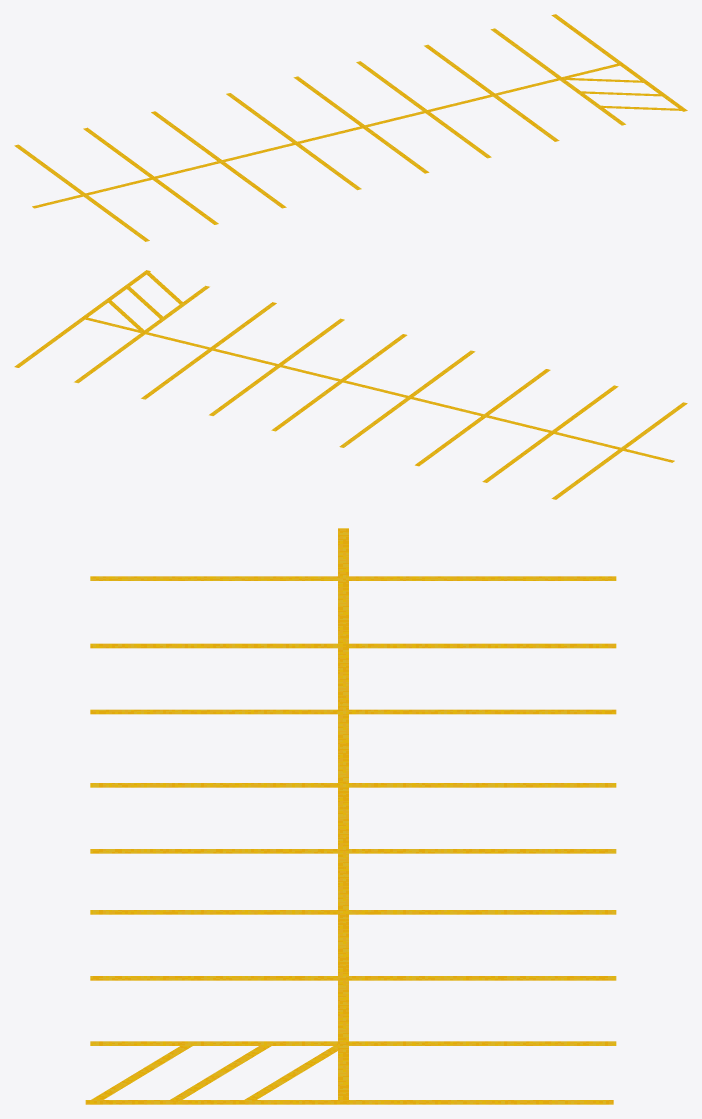
The model's file is YELLOW PARKINGLOT.fbx.
3 renders of one model, top to bottom at view 1: azimuth 30°, elevation 25°; view 2: azimuth 150°, elevation 25°; view 3: azimuth 270°, elevation 25°, orthographic. The views are drawn at different scales.
Parts seen in each view (by area): view 1: YELLOW_PARKINGLOT; view 2: YELLOW_PARKINGLOT; view 3: YELLOW_PARKINGLOT.
Boxes of the visible parts, x1,y1,x2,y2 form: YELLOW_PARKINGLOT: (14,14,687,241); YELLOW_PARKINGLOT: (14,270,687,499); YELLOW_PARKINGLOT: (85,528,616,1104).
Size of the model in its own units: 2696 by 0.0198 by 1050.
